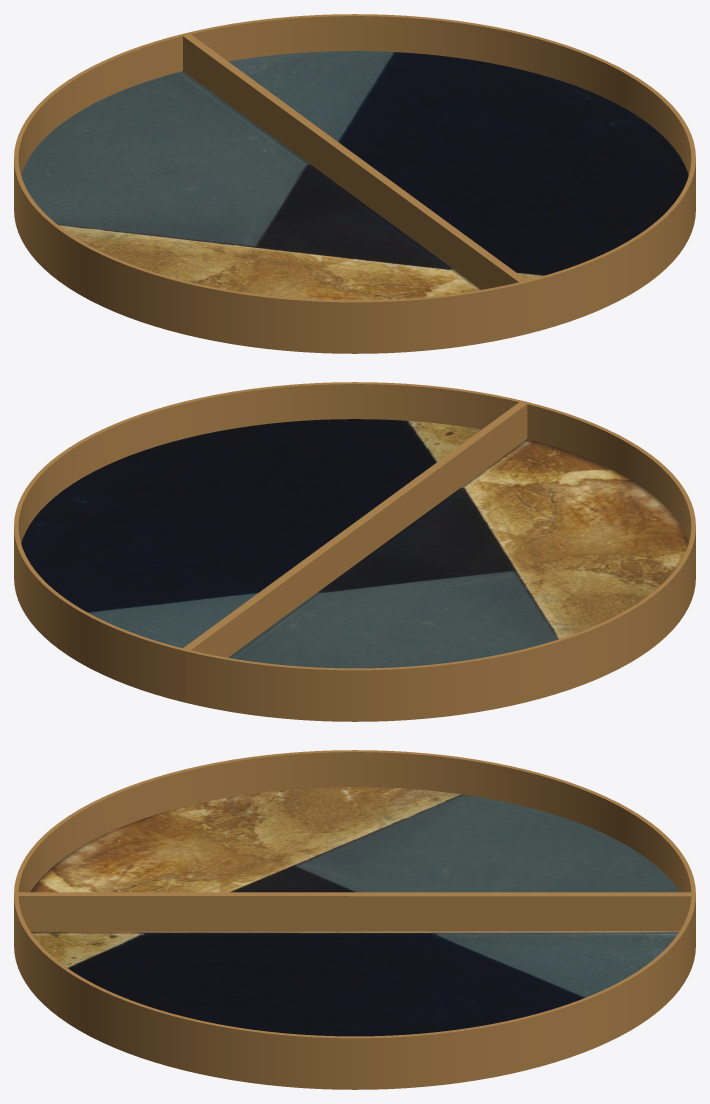
Rendered from Geometric_Glass_ValetTray.glb.
3 renders of one model, top to bottom at view 1: azimuth 30°, elevation 25°; view 2: azimuth 150°, elevation 25°; view 3: azimuth 270°, elevation 25°, orthographic.
Visible parts, largest first — view 1: model 8, model 9; view 2: model 8, model 9; view 3: model 9, model 8.
Boxes of the visible parts, left/top/right/bottom form: model 8: left=14, top=33, right=525, bottom=353; model 9: left=185, top=14, right=695, bottom=334; model 8: left=184, top=401, right=695, bottom=721; model 9: left=14, top=382, right=525, bottom=702; model 9: left=14, top=894, right=695, bottom=1089; model 8: left=14, top=750, right=695, bottom=894.
Size of the model in its own units: 0.3 by 0.025 by 0.3.
Materials: 3 (2 with a texture image).
